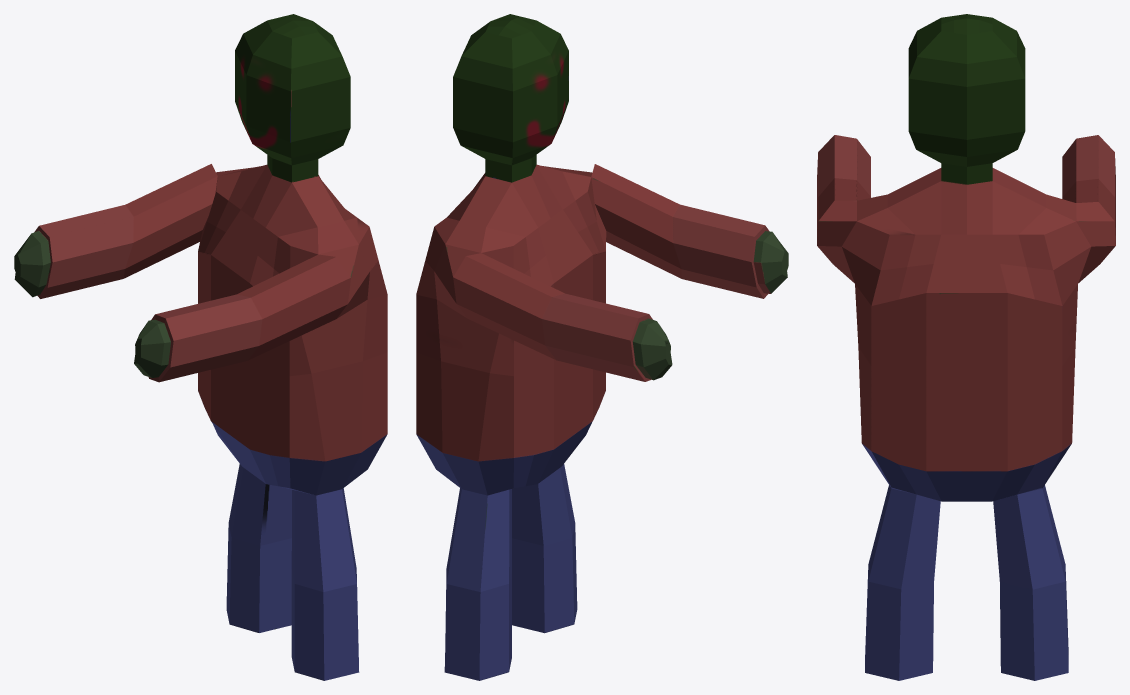
The model's file is low poly zombie.fbx.
3 views of the same model, side by side, from view 1: azimuth 30°, elevation 25°; view 2: azimuth 150°, elevation 25°; view 3: azimuth 270°, elevation 25° (orthographic). The views are drawn at different scales.
Visible parts, largest first — view 1: Cube; view 2: Cube; view 3: Cube.
Boxes of the visible parts, x1=… form: Cube: x1=14, y1=14, x2=387, y2=680; Cube: x1=416, y1=14, x2=788, y2=680; Cube: x1=817, y1=14, x2=1115, y2=680.
Size of the model in its own units: 279 by 585 by 245.
